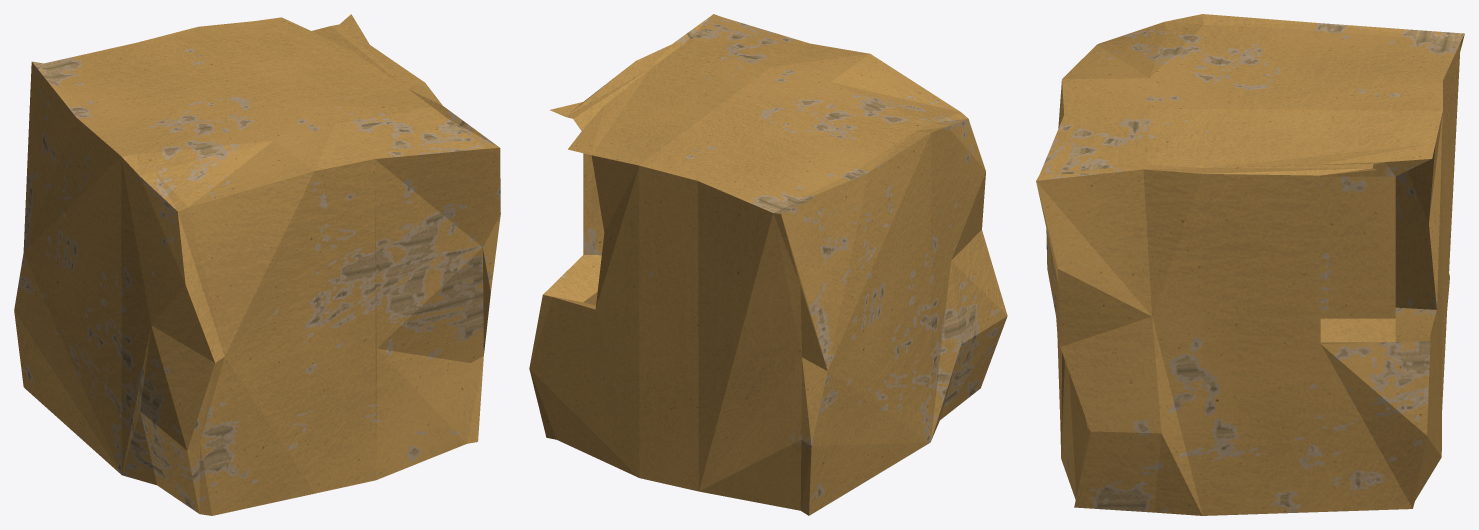
File: boxes5.obj
3 renders of one model, left to right at view 1: azimuth 30°, elevation 25°; view 2: azimuth 150°, elevation 25°; view 3: azimuth 270°, elevation 25°, orthographic. The views are drawn at different scales.
Parts seen in each view (by area): view 1: BOX4; view 2: BOX4; view 3: BOX4.
Boxes of the visible parts, left/top/right/bottom form: BOX4: left=14, top=14, right=500, bottom=515; BOX4: left=529, top=14, right=1007, bottom=515; BOX4: left=1036, top=14, right=1464, bottom=515.
Bounding box in the file's own units: 2.12 × 2.09 × 2.3.
